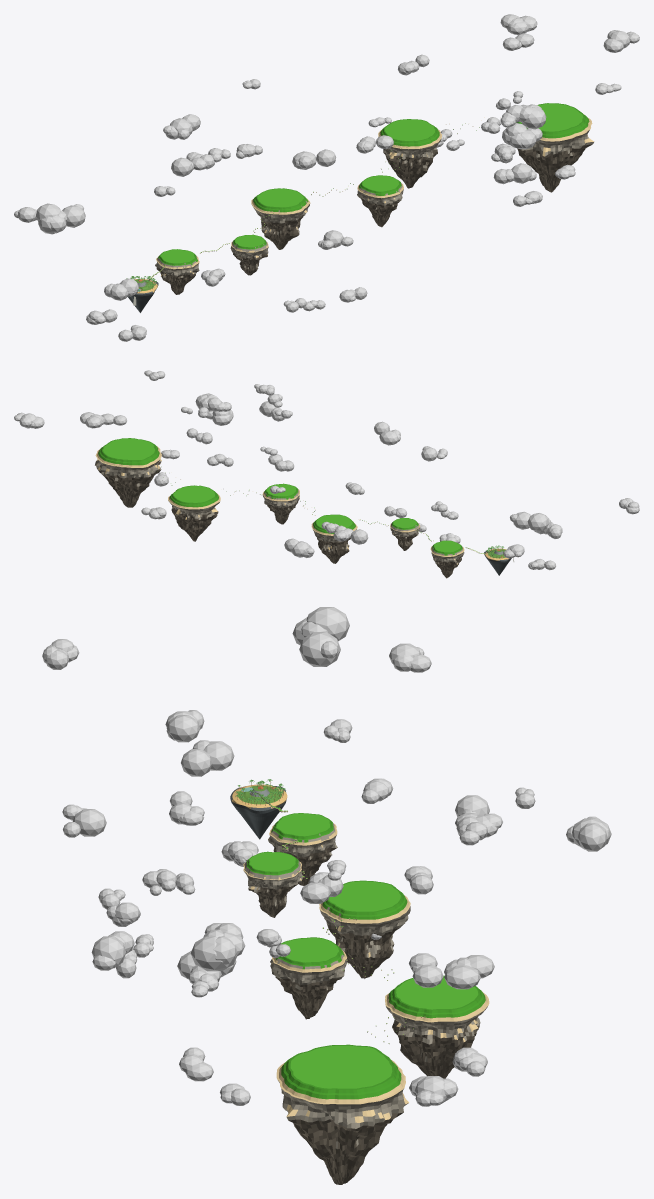
Rendered from mundo_islas.glb.
The picture shows the model from 3 angles, top to bottom: view 1: azimuth 30°, elevation 25°; view 2: azimuth 150°, elevation 25°; view 3: azimuth 270°, elevation 25°; orthographic projection. The views are drawn at different scales.
Parts seen in each view (by area): view 1: Isla_07_Base-col, Isla_06_Base-col, Isla_04_Base-col, Isla_05_Base-col, Isla_02_Base-col, Nube_02, Isla_03_Base-col, Nube_23, Nube_01, Nube_25, Nube_19, Nube_11 (+6 smaller); view 2: Isla_07_Base-col, Isla_06_Base-col, Isla_04_Base-col, Isla_05_Base-col, Isla_02_Base-col, Isla_03_Base-col, Nube_02, Nube_23, Nube_25, Nube_11, Nube_19, Isla_01_Base-col (+3 smaller); view 3: Isla_07_Base-col, Isla_06_Base-col, Isla_04_Base-col, Isla_05_Base-col, Isla_02_Base-col, Isla_03_Base-col, Nube_02, Nube_23, Isla_01_Base-col, Nube_11, Nube_13, Nube_06 (+11 smaller).
Boxes of the visible parts, x1,y1,x2,y2 form: Isla_07_Base-col: (516,103,594,192); Isla_06_Base-col: (378,119,441,188); Isla_04_Base-col: (251,188,310,249); Isla_05_Base-col: (357,175,403,227); Isla_02_Base-col: (155,249,199,294); Nube_02: (36,203,85,234); Isla_03_Base-col: (230,234,268,275); Nube_23: (500,104,546,129); Nube_01: (502,122,542,149); Nube_25: (171,152,214,176); Nube_19: (163,114,200,139); Nube_11: (292,149,336,169); Isla_07_Base-col: (95,438,161,507); Isla_06_Base-col: (168,485,220,541); Isla_04_Base-col: (311,514,357,563); Isla_05_Base-col: (262,483,299,524); Isla_02_Base-col: (430,540,464,578); Isla_03_Base-col: (390,518,420,550); Nube_02: (510,511,551,534); Nube_23: (195,393,231,411); Nube_25: (333,525,368,544); Nube_11: (374,421,400,445); Nube_19: (284,538,314,557); Isla_01_Base-col: (484,548,511,575); Isla_07_Base-col: (276,1044,408,1184); Isla_06_Base-col: (385,975,489,1078); Isla_04_Base-col: (319,880,410,978); Isla_05_Base-col: (270,937,347,1019); Isla_02_Base-col: (268,813,337,885); Isla_03_Base-col: (243,851,302,917); Nube_02: (292,607,349,666); Nube_23: (190,923,245,971); Isla_01_Base-col: (230,784,287,839); Nube_11: (181,740,234,776); Nube_13: (444,955,494,989); Nube_06: (91,931,134,970).
Size of what is drawn, in the model's own units: 3211 by 673 by 1489.
